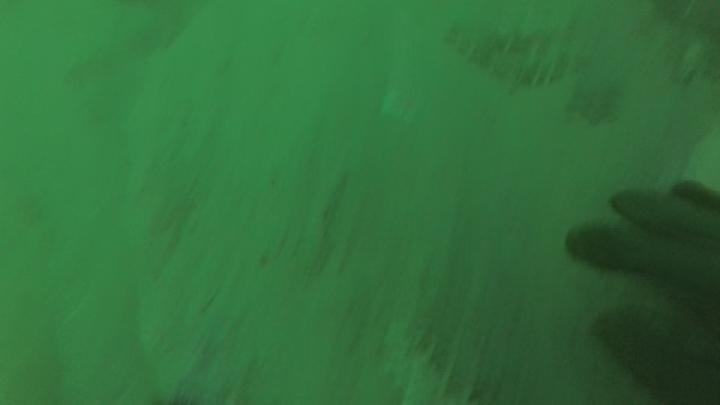holothurian: (445, 31, 596, 93), (378, 316, 449, 405), (483, 15, 570, 54)
starfish: (563, 73, 625, 129)
